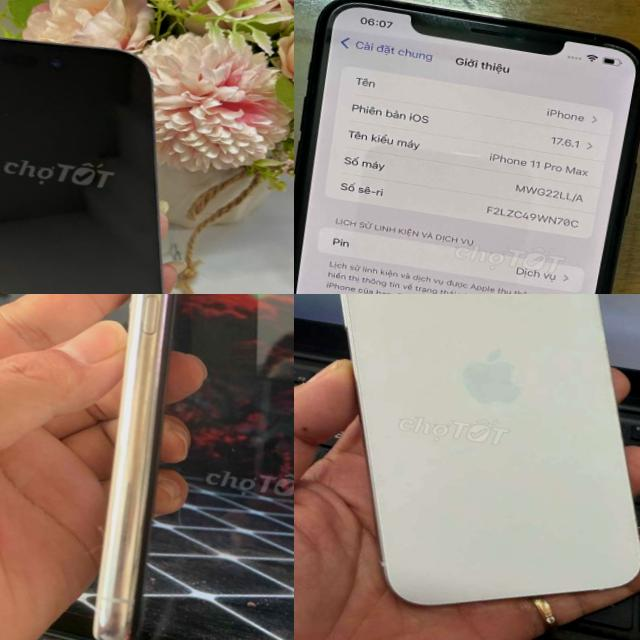scratch: (407, 0, 552, 52), (144, 294, 199, 392)
